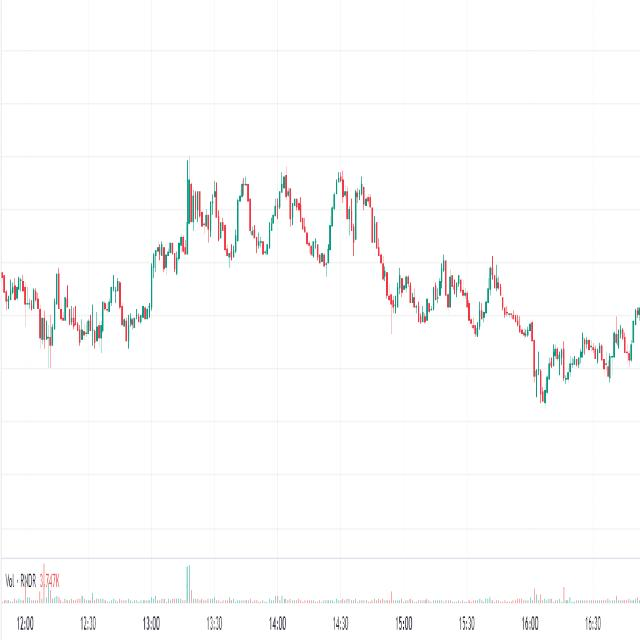Double-Top: (328, 152, 384, 274)
